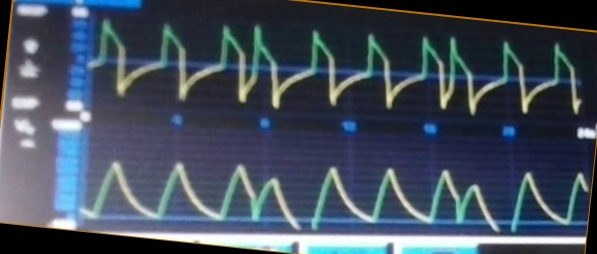Double_Triggering Flow: (97, 21, 583, 115)
Double_Triggering Volume: (89, 156, 581, 231)
